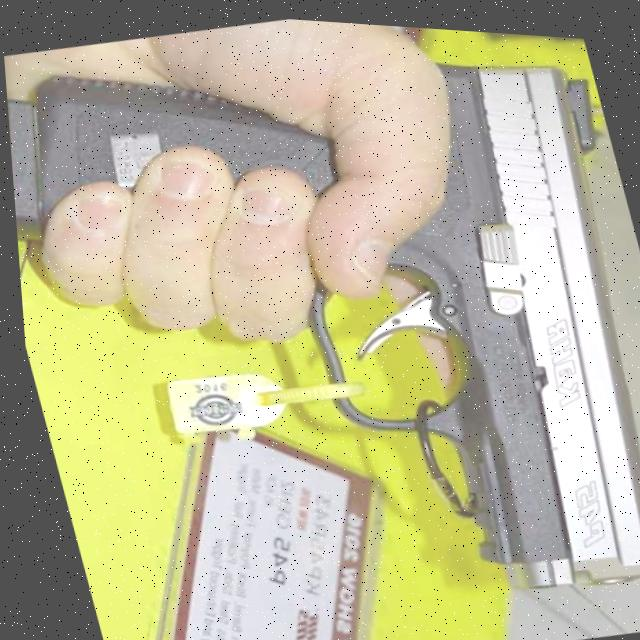pistol: (239, 14, 640, 628)
